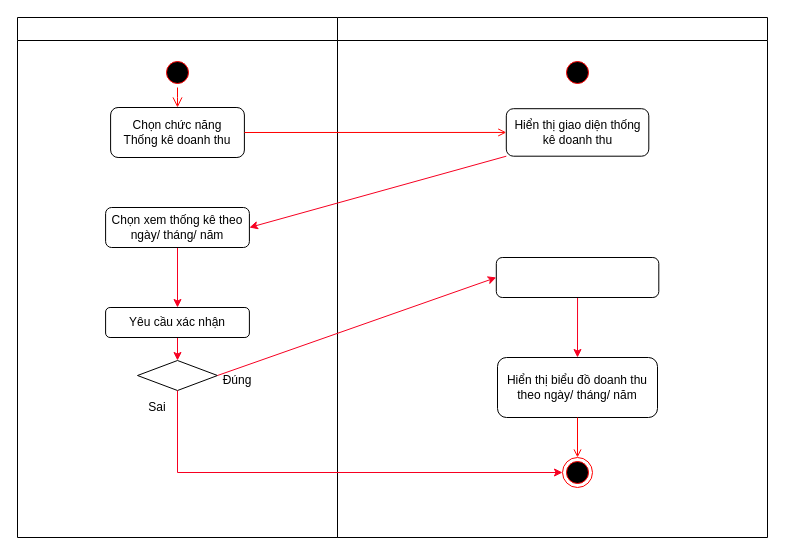
The diagram is 785 pixels wide and 555 high, and some of its shapes have lost their labels. Here are the shapes that lost their labels. From the top down, the box of each, then its label:
(16, 16, 338, 538): Admin
(336, 16, 768, 538): Hệ thống
(495, 256, 659, 298): Lấy dữ liệu doanh thu theo ngày/ tháng/ năm
